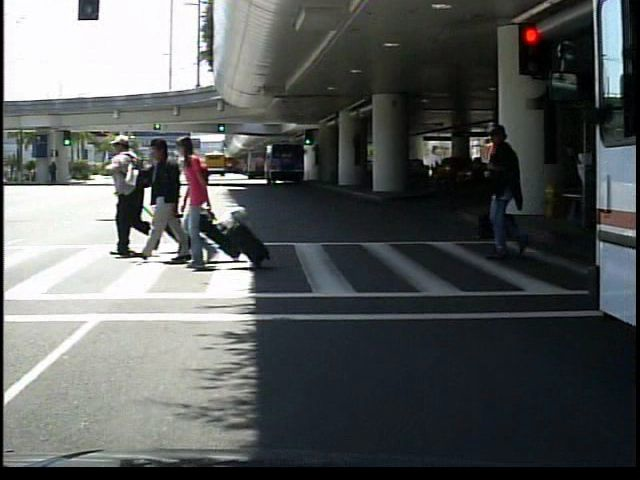person: (469, 116, 540, 262)
